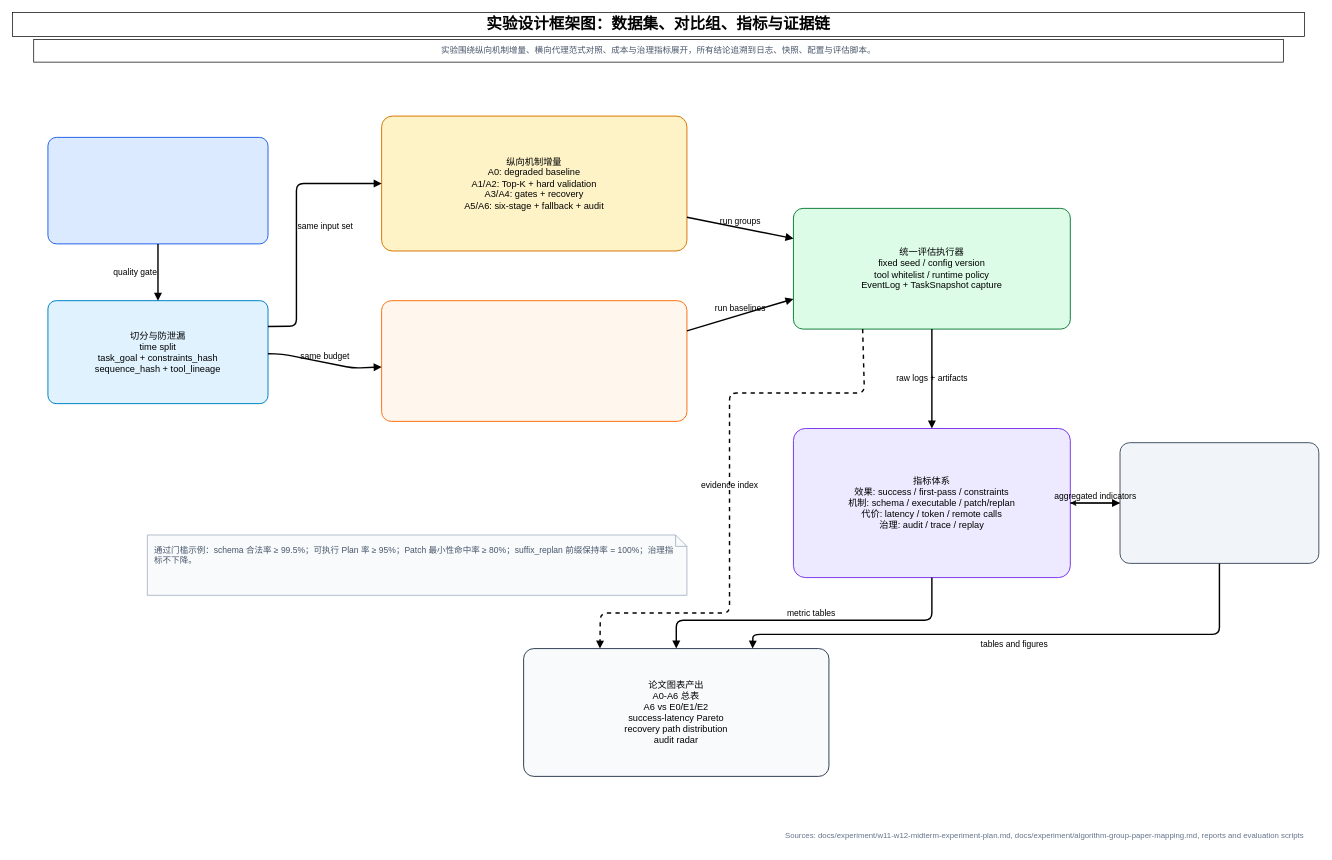
This 1332x860 diagram has some shape labels left out. Each missing label, with the box of its shape:
实验数据集 D-main: 主任务集 D-recovery: 恢复压力集 D-hitl: 人工决策集: (47, 137, 268, 244)
横向对照 E0: ReAct-style E1: ToT-style E2: Reflexion-style same tools / same budget: (381, 300, 687, 422)
统计分析 Wilson 95% CI paired McNemar bootstrap CI effect size: (1119, 442, 1319, 564)
